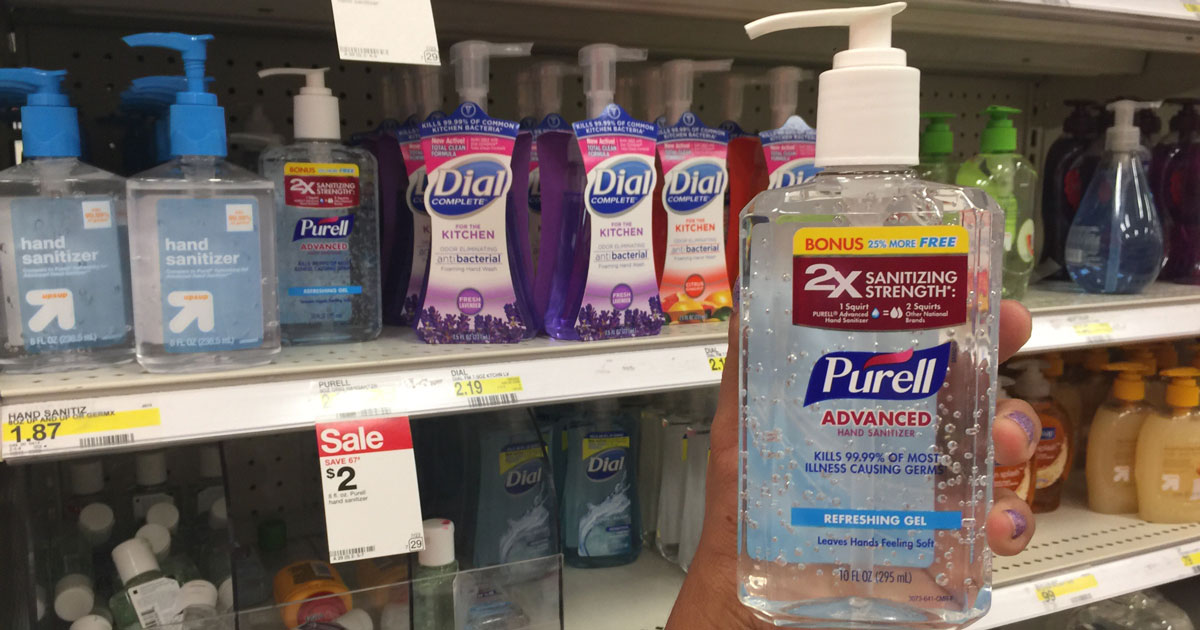Sanitizer: (708, 2, 1012, 630), (246, 50, 388, 360)
